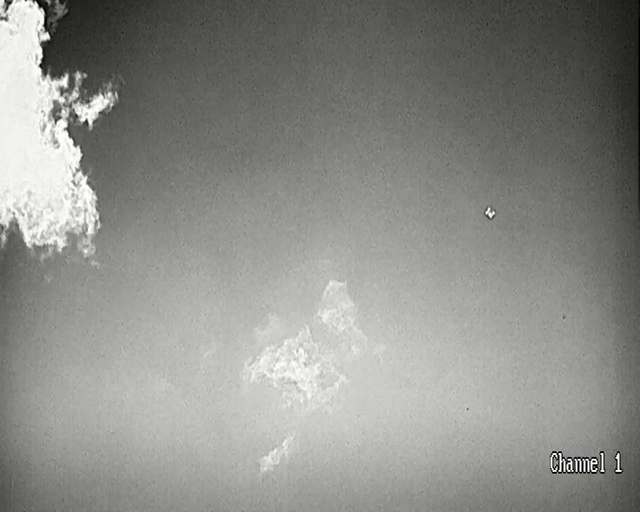uav: (485, 207, 495, 217)
